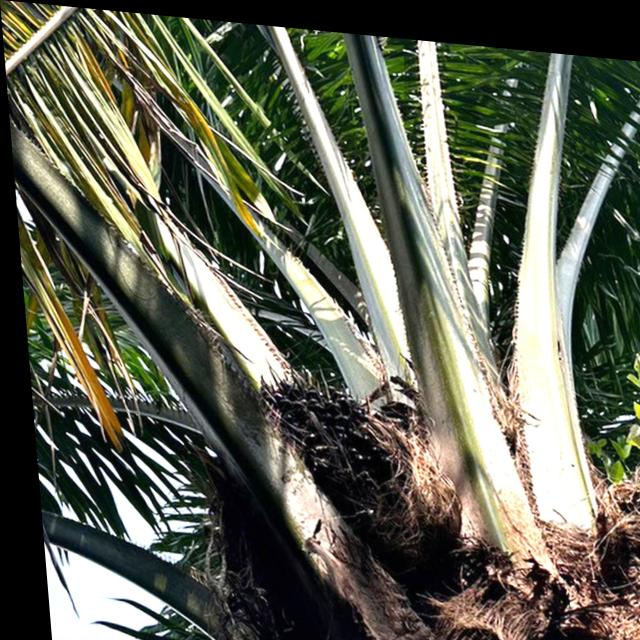almost: (249, 351, 461, 550)
